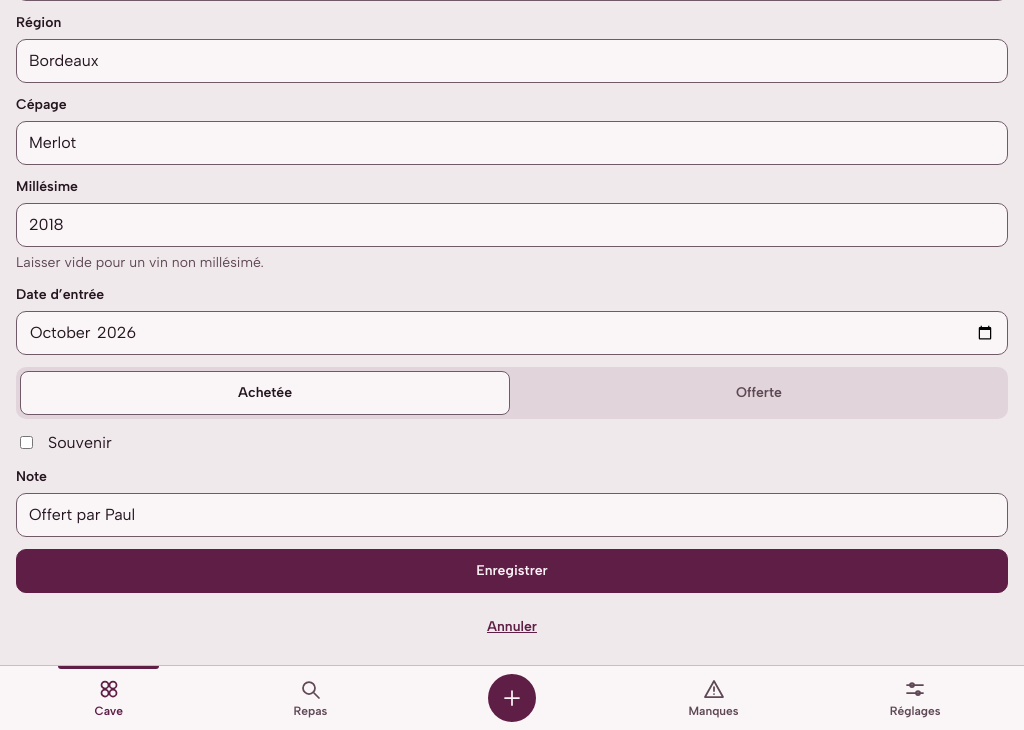
Test case: Modifier la fiche (en ligne, contrat §7.3) › refus du serveur : son message
The image size is (1024, 730).
(page scrolled)
Click the button "Enregistrer". click: (512, 570)
box: [16,548,1008,592]
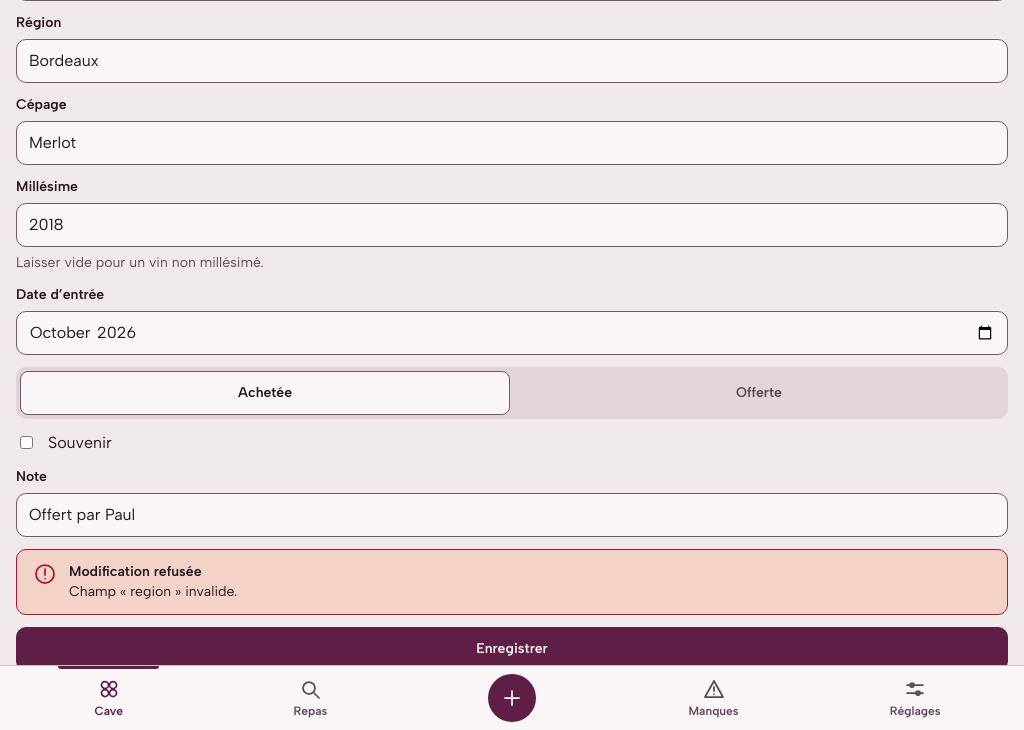
Now the message shows "Champ « region » invalide.", box [69,582,237,600]
